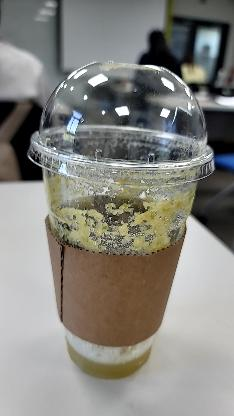Plastic Cup: (20, 50, 220, 384), (28, 58, 216, 186)
